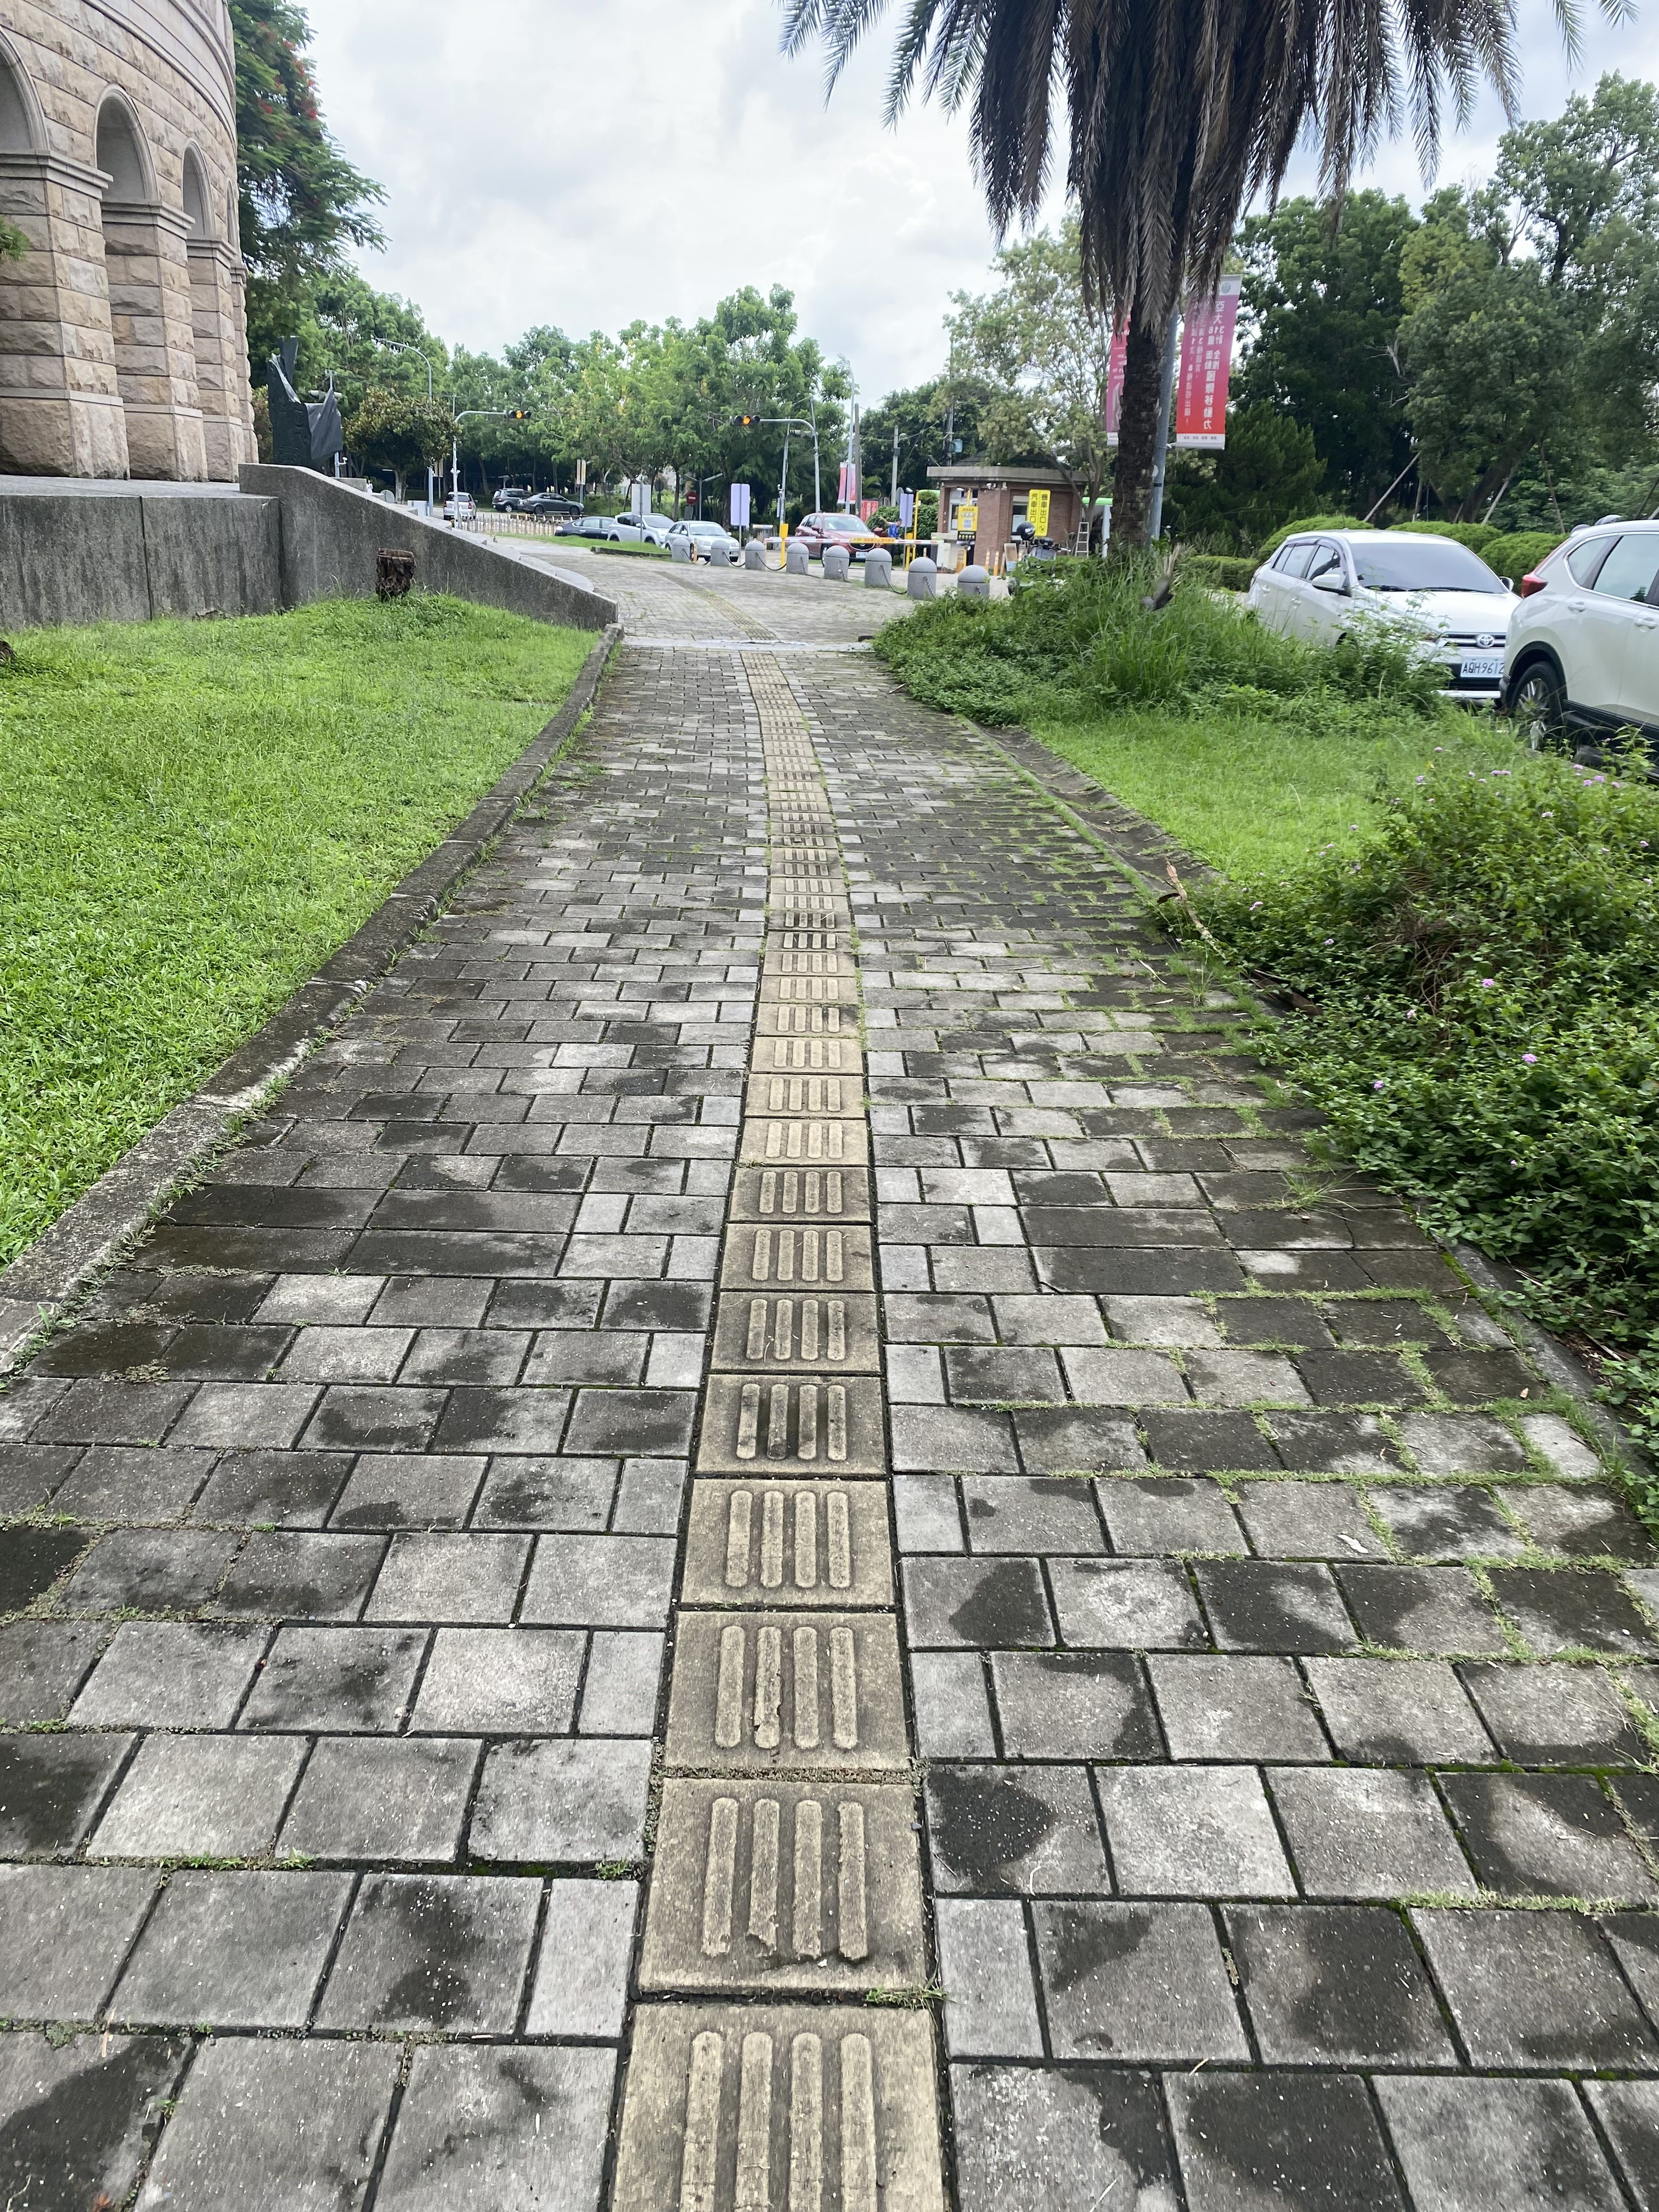0: (17, 803, 1659, 2207)
sidewalk: (511, 514, 1182, 1493)
